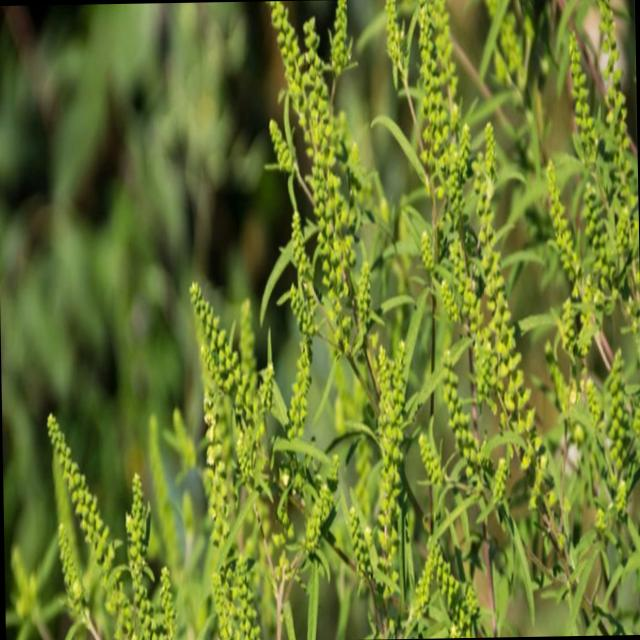ambrosia: (261, 2, 383, 348), (413, 16, 538, 353), (185, 276, 319, 558), (38, 402, 194, 640), (362, 355, 492, 639), (564, 27, 640, 350)
